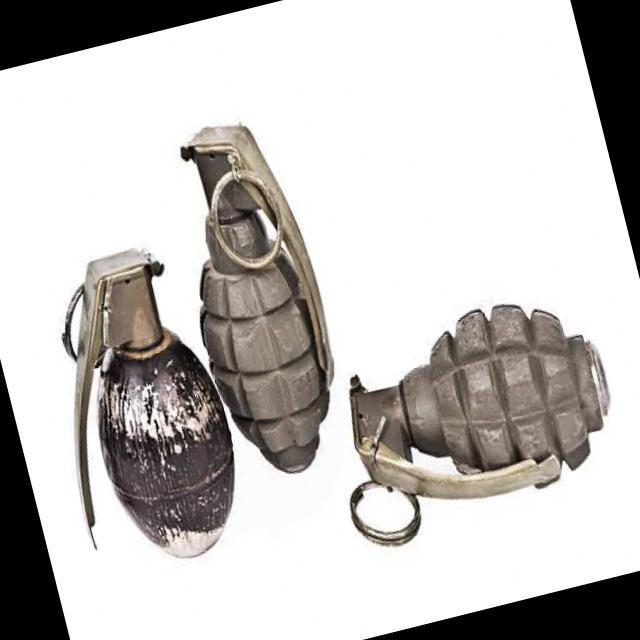grenade: (0, 70, 366, 599), (322, 272, 630, 534)
